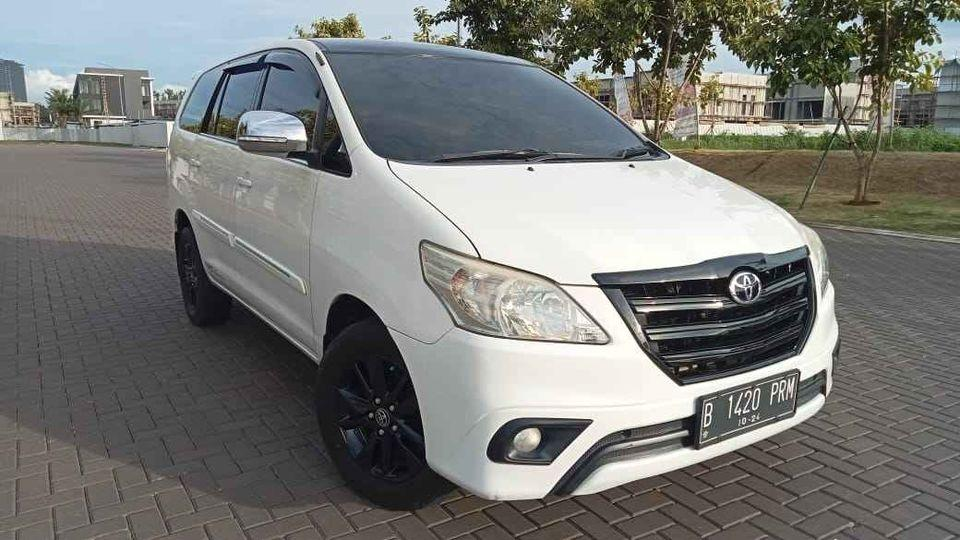plat nomor: (690, 363, 805, 451)
